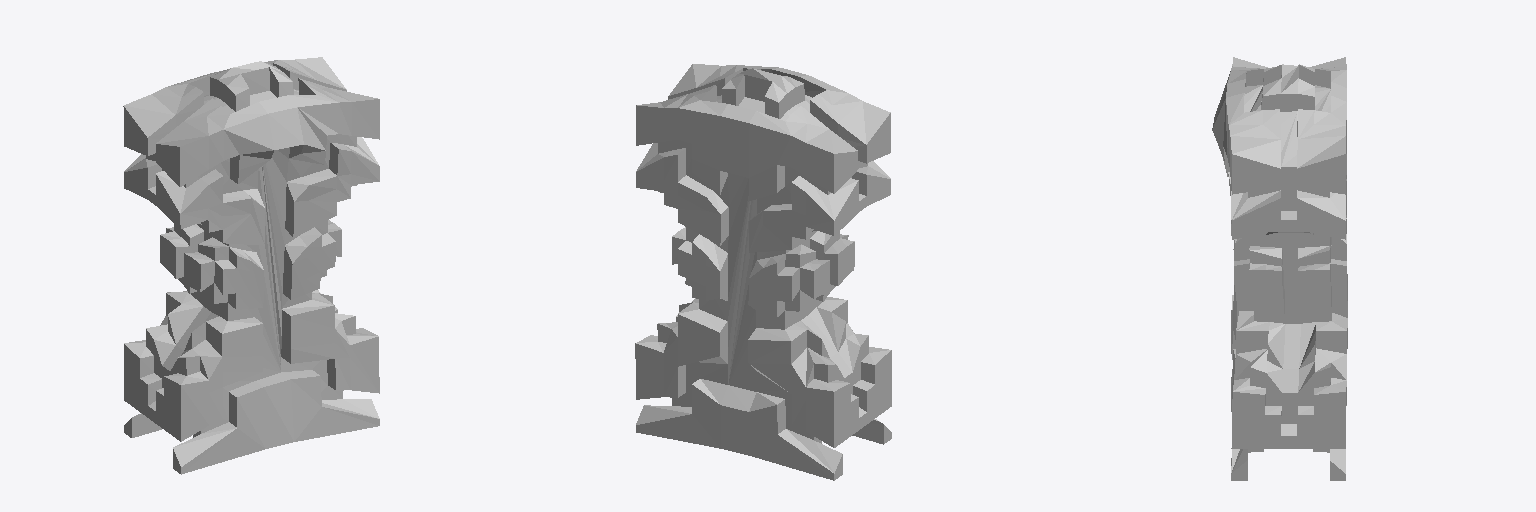
Rendered from TeleporterBot_LOD0-3.obj.
The picture shows the model from 3 angles: view 1: azimuth 30°, elevation 25°; view 2: azimuth 150°, elevation 25°; view 3: azimuth 270°, elevation 25°; orthographic projection.
Parts seen in each view (by area): view 1: TeleporterBot_LOD0-3; view 2: TeleporterBot_LOD0-3; view 3: TeleporterBot_LOD0-3.
Part boxes in pixels (left/top/right/bottom): TeleporterBot_LOD0-3: left=123, top=57, right=379, bottom=474; TeleporterBot_LOD0-3: left=635, top=64, right=891, bottom=480; TeleporterBot_LOD0-3: left=1212, top=57, right=1347, bottom=480.
Bounding box in the file's own units: 1.4 × 2.49 × 0.828.